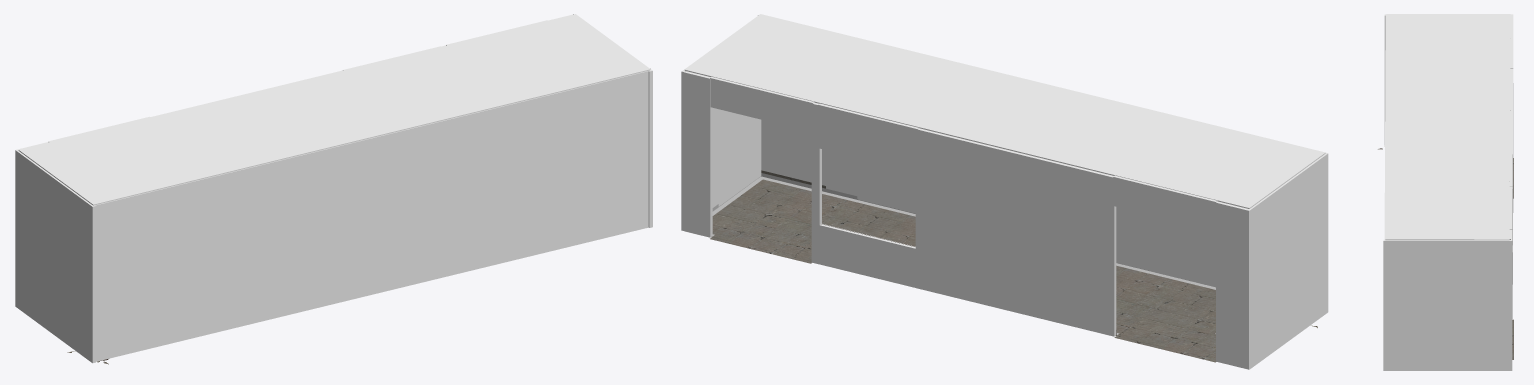
Rendered from Interior Structure.fbx.
The picture shows the model from 3 angles, left to right: view 1: azimuth 30°, elevation 25°; view 2: azimuth 150°, elevation 25°; view 3: azimuth 270°, elevation 25°; orthographic projection. The views are drawn at different scales.
Parts seen in each view (by area): view 1: Cube, Cube (11), Cube (10), Cube (9); view 2: Cube (11), Cube (1), Ind_IntFloor, Cube (10), Cube, Cube (6), Cube (9), Cube (2), Cube (4), Cube (5), Cube (7), Cube (8) (+2 smaller); view 3: Cube (11), Cube (9), Cube (1), Cube, Cube (10), Cube (7), Cube (8), Cube (3).
Boxes of the visible parts, <box> form: Cube: <box>94,71,648,361</box>; Cube (11): <box>18,14,650,205</box>; Cube (10): <box>15,149,95,363</box>; Cube (9): <box>573,14,652,227</box>; Cube (11): <box>684,14,1325,208</box>; Cube (1): <box>915,128,1116,336</box>; Ind_IntFloor: <box>710,170,1216,362</box>; Cube (10): <box>1247,152,1328,369</box>; Cube: <box>761,119,1215,287</box>; Cube (6): <box>1216,201,1250,369</box>; Cube (9): <box>681,14,761,230</box>; Cube (2): <box>684,71,712,237</box>; Cube (4): <box>818,103,918,172</box>; Cube (5): <box>818,224,917,288</box>; Cube (7): <box>1113,175,1217,230</box>; Cube (8): <box>710,77,814,131</box>; Cube (11): <box>1385,14,1510,240</box>; Cube (9): <box>1383,239,1512,370</box>; Cube (1): <box>1510,68,1513,244</box>; Cube: <box>1384,15,1386,239</box>; Cube (10): <box>1384,14,1512,145</box>; Cube (7): <box>1510,27,1513,68</box>; Cube (8): <box>1509,188,1512,229</box>; Cube (3): <box>1509,186,1512,318</box>.
Bounding box in the file's own units: 16.07 × 4.25 × 4.25.
